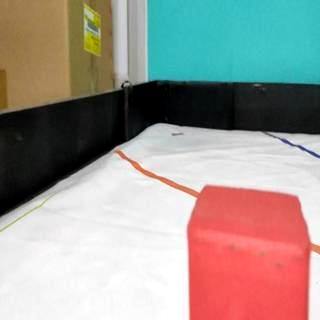redbox: (185, 183, 308, 320)
